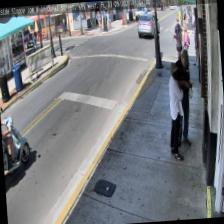person: (170, 48, 196, 146), (164, 60, 187, 160)
